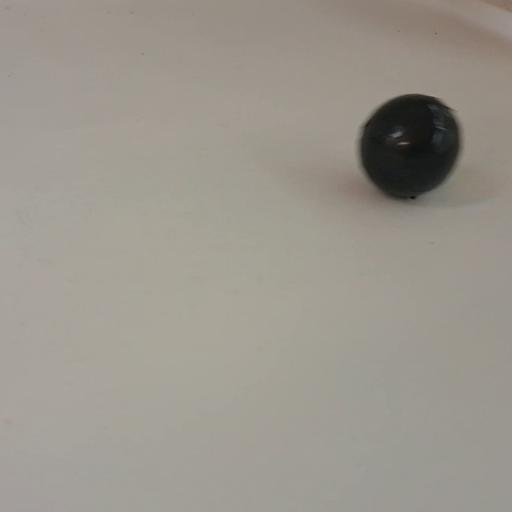dead: (355, 91, 464, 200)
